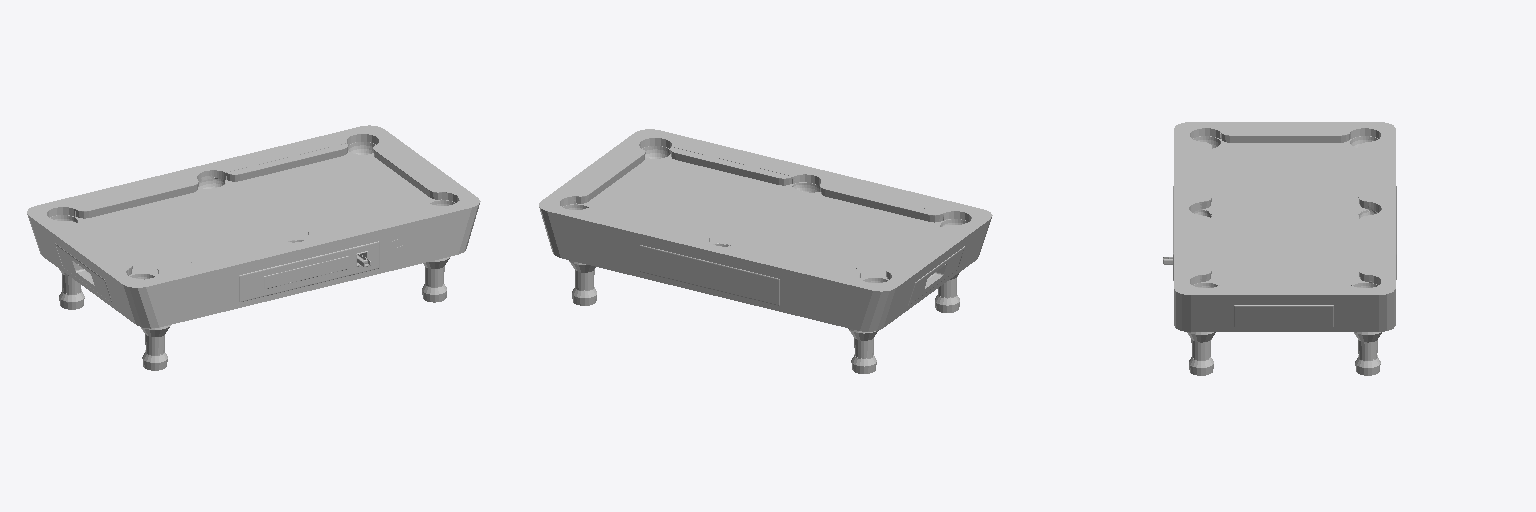
The model's file is prueba.obj.
The picture shows the model from 3 angles: view 1: azimuth 30°, elevation 25°; view 2: azimuth 150°, elevation 25°; view 3: azimuth 270°, elevation 25°; orthographic projection.
Parts seen in each view (by area): view 1: ChamferBox, Box001, ChamferBo4, ChamferBo5, ChamferBo1, Cylinder04, Box003, Cylinder07, Cylinder05, ChamferBo3, ChamferBo2, ChamferBo6 (+1 smaller); view 2: ChamferBox, Box001, ChamferBo3, ChamferBo2, ChamferBo1, Cylinder05, Cylinder06, Cylinder04, ChamferBo4, ChamferBo5, ChamferBo0; view 3: Box001, ChamferBox, ChamferBo0, Cylinder06, Cylinder07, ChamferBo4, ChamferBo3, ChamferBo5, ChamferBo2.
Boxes of the visible parts, x1=… form: ChamferBox: x1=27, y1=125, x2=480, y2=328; Box001: x1=76, y1=152, x2=441, y2=275; ChamferBo4: x1=75, y1=179, x2=198, y2=218; ChamferBo5: x1=226, y1=143, x2=348, y2=181; ChamferBo1: x1=373, y1=144, x2=441, y2=199; Cylinder04: x1=141, y1=325, x2=170, y2=370; Box003: x1=265, y1=257, x2=346, y2=287; Cylinder07: x1=422, y1=257, x2=449, y2=302; Cylinder05: x1=59, y1=269, x2=84, y2=309; ChamferBo3: x1=157, y1=238, x2=280, y2=273; ChamferBo2: x1=308, y1=202, x2=428, y2=234; ChamferBo6: x1=239, y1=241, x2=379, y2=301; ChamferBox: x1=539, y1=129, x2=992, y2=331; Box001: x1=576, y1=156, x2=941, y2=279; ChamferBo3: x1=820, y1=183, x2=943, y2=222; ChamferBo2: x1=670, y1=147, x2=792, y2=185; ChamferBo1: x1=576, y1=149, x2=645, y2=203; Cylinder05: x1=848, y1=328, x2=878, y2=373; Cylinder06: x1=569, y1=260, x2=596, y2=305; Cylinder04: x1=935, y1=273, x2=959, y2=312; ChamferBo4: x1=738, y1=242, x2=860, y2=277; ChamferBo5: x1=589, y1=206, x2=710, y2=236; ChamferBo0: x1=886, y1=225, x2=954, y2=279; Box001: x1=1202, y1=139, x2=1368, y2=284; ChamferBox: x1=1174, y1=122, x2=1395, y2=331; ChamferBo0: x1=1221, y1=132, x2=1350, y2=142; Cylinder06: x1=1354, y1=332, x2=1381, y2=375; Cylinder07: x1=1187, y1=332, x2=1215, y2=375; ChamferBo4: x1=1358, y1=142, x2=1368, y2=208; ChamferBo3: x1=1202, y1=142, x2=1211, y2=208; ChamferBo5: x1=1359, y1=216, x2=1368, y2=281; ChamferBo2: x1=1202, y1=216, x2=1211, y2=281.
Bounding box in the file's own units: 1.11 × 0.2829 × 0.6279.